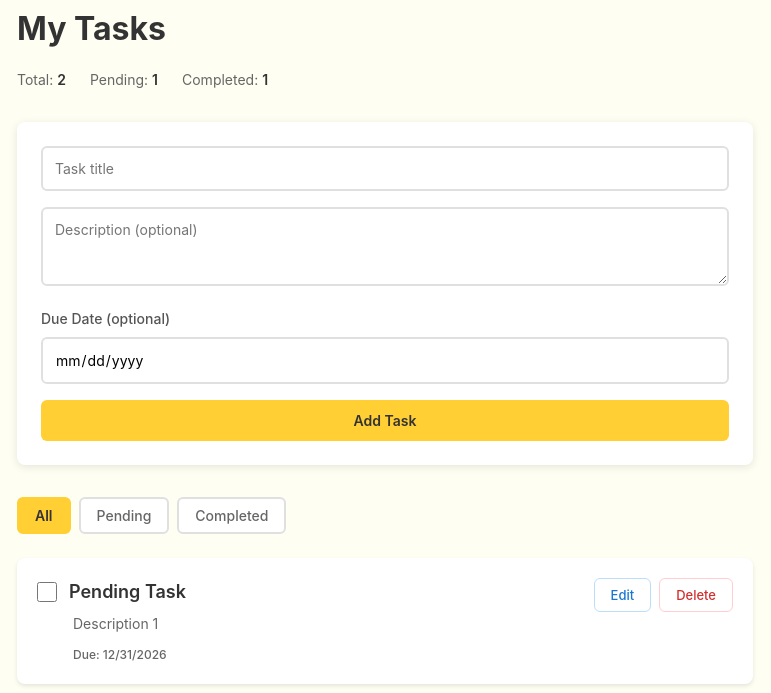
Test: TaskBoard › should delete task
Expected: the element with test id "task-1" is shown, x1=17 y1=558 x2=753 y2=684
Click the button with aria-label "delete task".
click(696, 595)  # box x1=659 y1=578 x2=733 y2=612
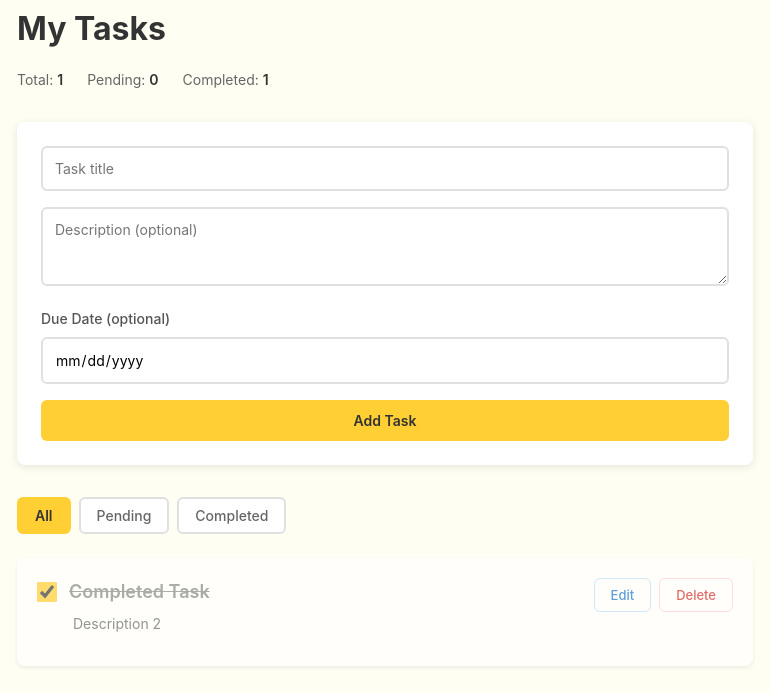
Result: the element with test id "task-1" is gone
